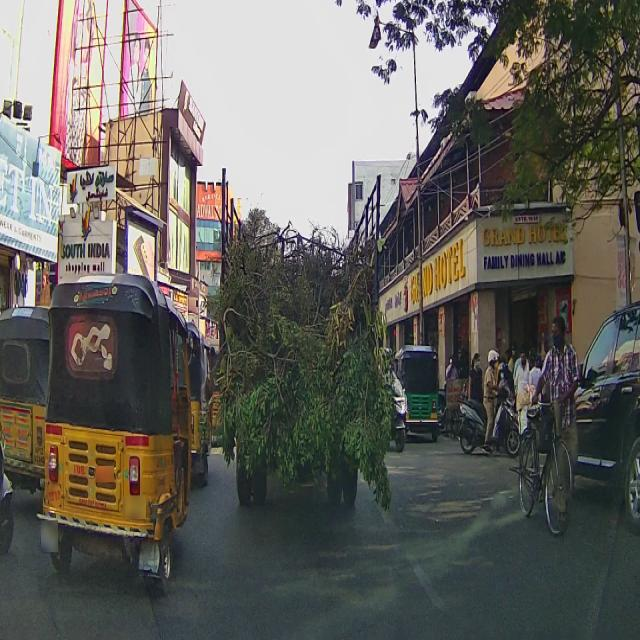auto ahead at: (42, 270, 188, 584), (400, 348, 443, 435)
bicycle ahead at: (514, 398, 578, 536)
motorcycle ahead at: (452, 374, 521, 454)
